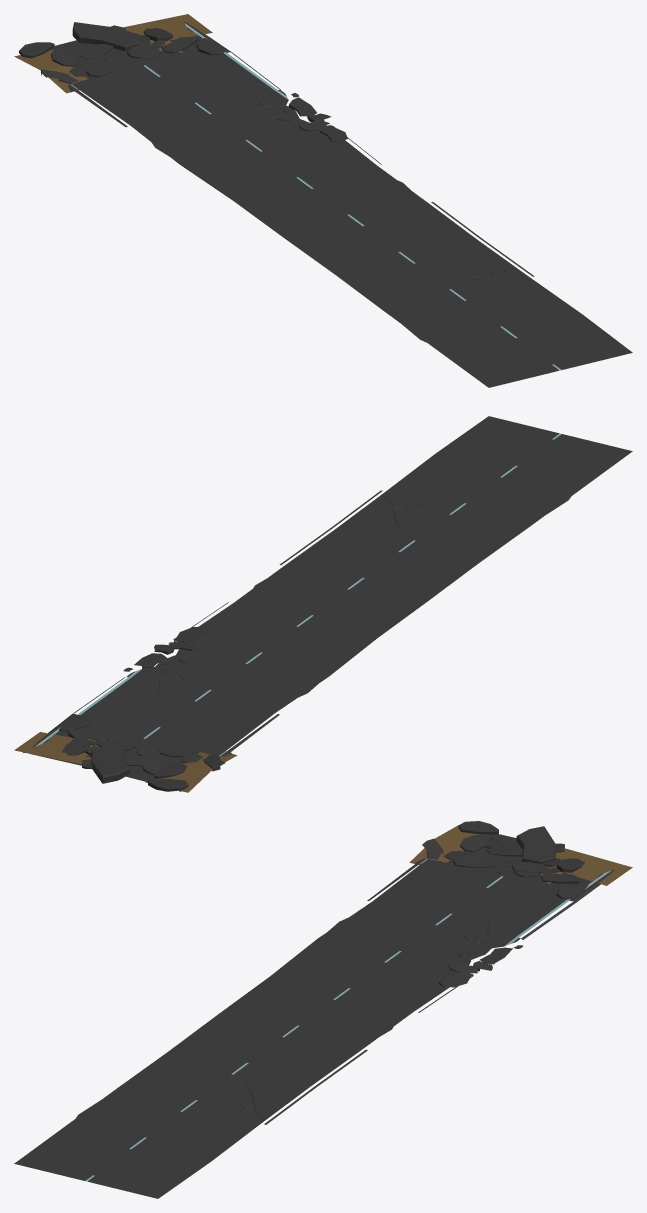
File: model_road_straight_3_.fbx
3 views of the same model, one above another, from view 1: azimuth 30°, elevation 25°; view 2: azimuth 150°, elevation 25°; view 3: azimuth 330°, elevation 25° (orthographic).
Visible parts, largest first — view 1: model_road_dirt_straight_03.001; view 2: model_road_dirt_straight_03.001; view 3: model_road_dirt_straight_03.001.
Boxes of the visible parts, x1,y1,x2,y2 form: model_road_dirt_straight_03.001: (14,14,632,387); model_road_dirt_straight_03.001: (14,416,632,792); model_road_dirt_straight_03.001: (14,821,632,1198).
Bounding box in the file's own units: 0.1236 × 0.569 × 0.00627.
